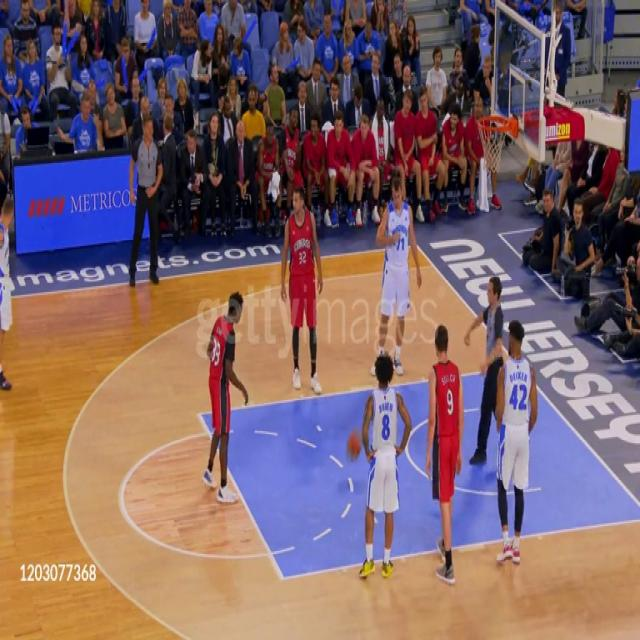ball: (348, 430, 362, 460)
